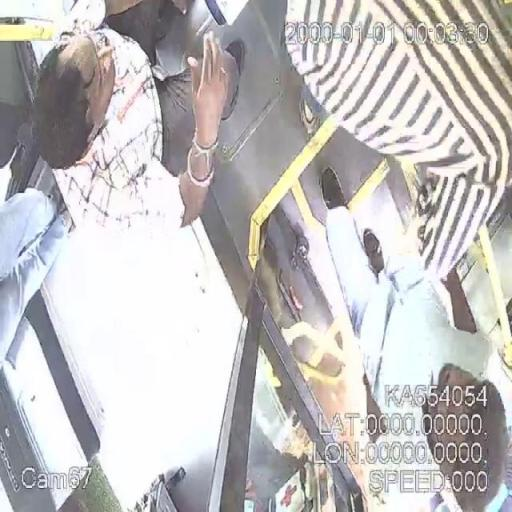persona: (317, 157, 512, 512), (283, 2, 507, 284), (2, 20, 248, 245)
